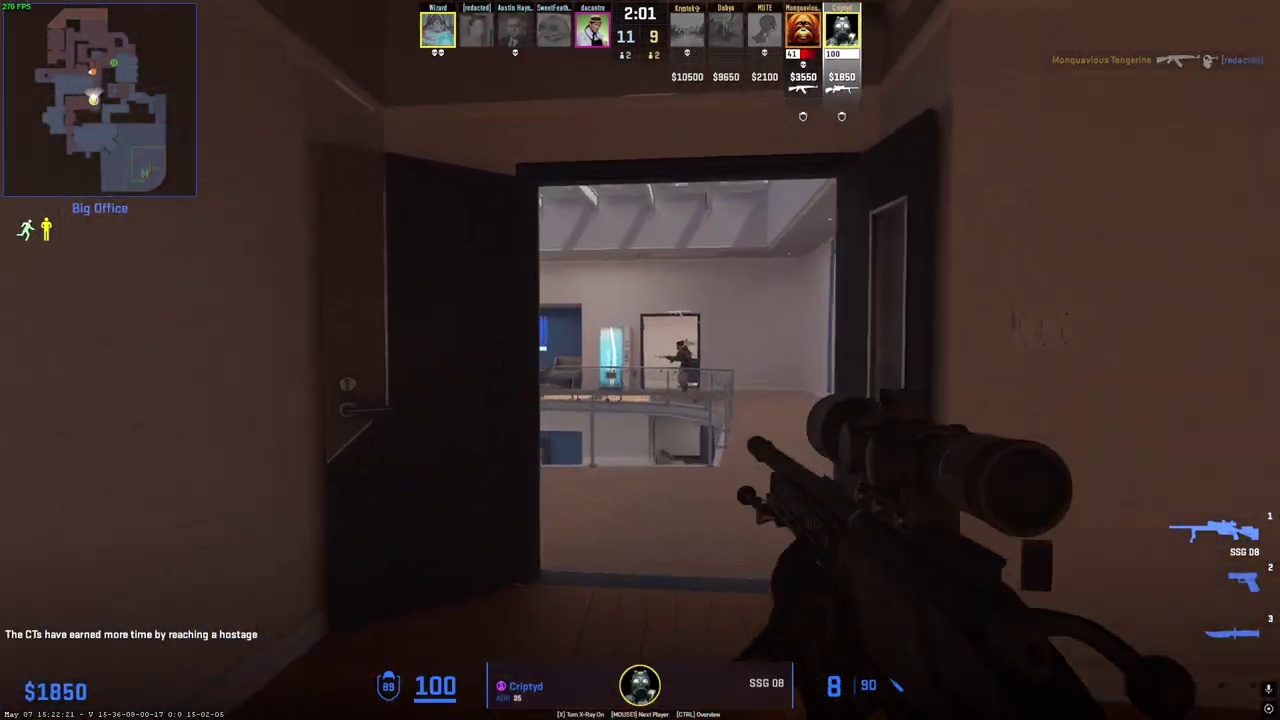Terrorist: (668, 340, 696, 393)
